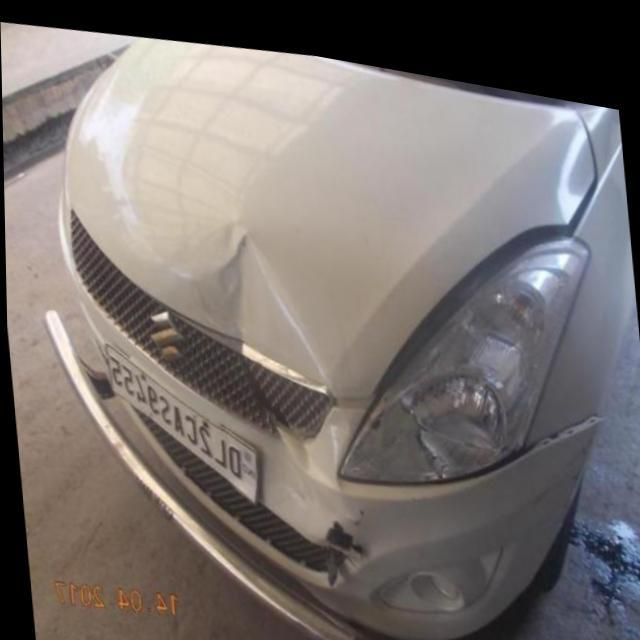crack: (461, 389, 607, 467), (239, 350, 304, 431), (320, 509, 365, 554)
dent: (190, 211, 328, 378), (274, 393, 348, 473)
dislocated part: (359, 157, 591, 410)
